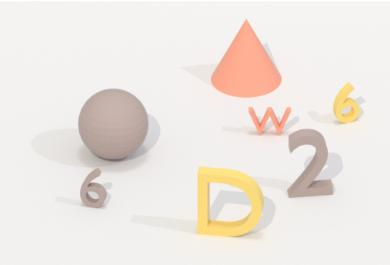0-TamGiac: (206, 15, 284, 102)
0-Tron: (73, 84, 154, 164)
2: (285, 128, 338, 201)
6: (327, 77, 365, 127), (73, 163, 110, 212)
D: (193, 161, 267, 241)
W: (244, 101, 295, 138)
